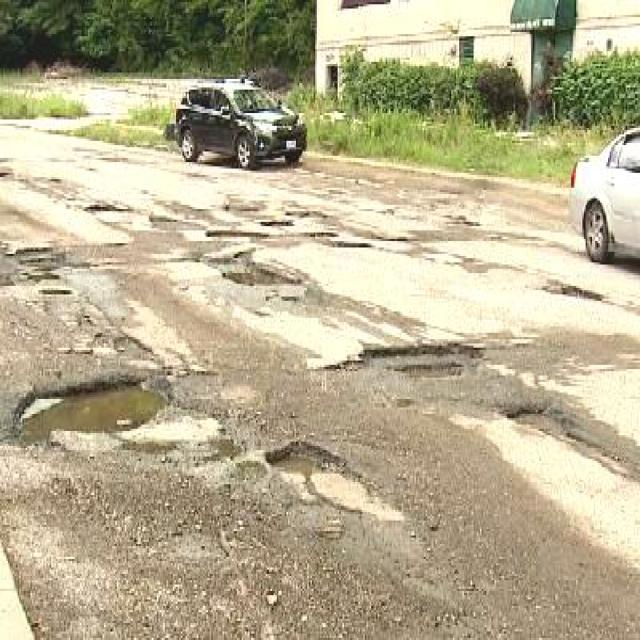pothole: (5, 369, 173, 450), (260, 435, 390, 516), (322, 335, 484, 382), (9, 243, 73, 301), (501, 401, 574, 437), (218, 262, 302, 288), (203, 226, 272, 241), (558, 280, 602, 302), (84, 200, 126, 214), (302, 229, 341, 240)
